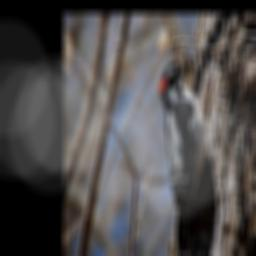Woodpecker: (157, 57, 208, 256)
